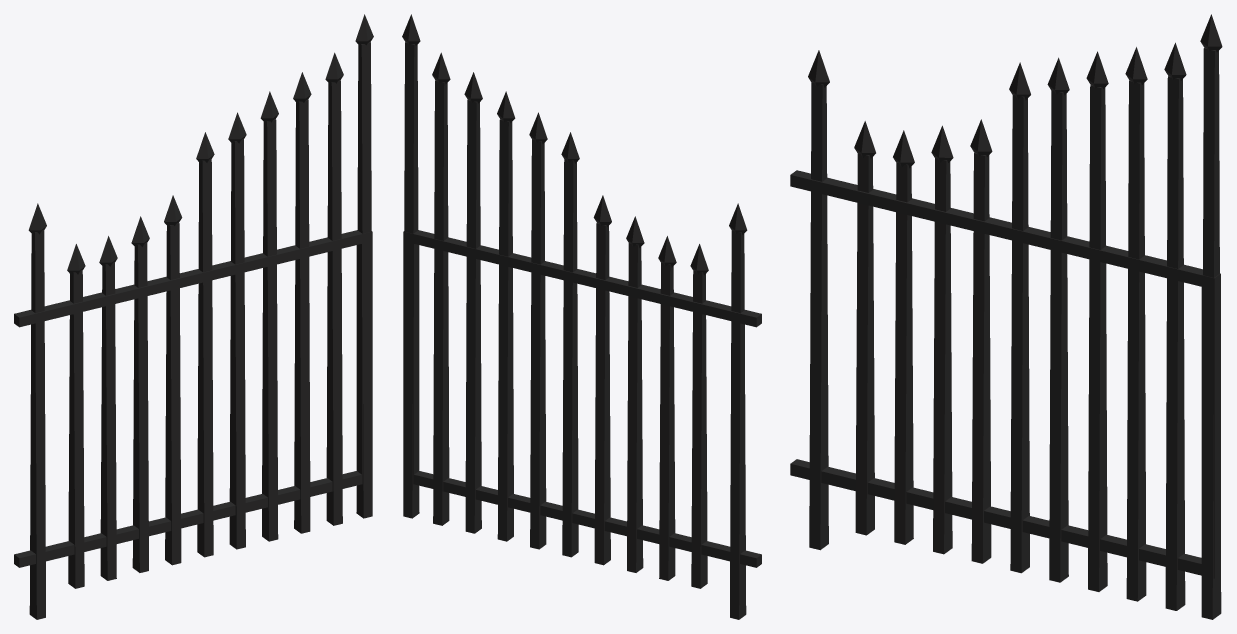
The model's file is gate_single.fbx.
The picture shows the model from 3 angles, left to right: view 1: azimuth 30°, elevation 25°; view 2: azimuth 150°, elevation 25°; view 3: azimuth 330°, elevation 25°; orthographic projection. The views are drawn at different scales.
Parts seen in each view (by area): view 1: fence; view 2: fence; view 3: fence.
Boxes of the visible parts, x1,y1,x2,y2 form: fence: (14,14,373,619); fence: (402,14,761,619); fence: (790,14,1222,619).
Bounding box in the file's own units: 169 × 236 × 5.82.
